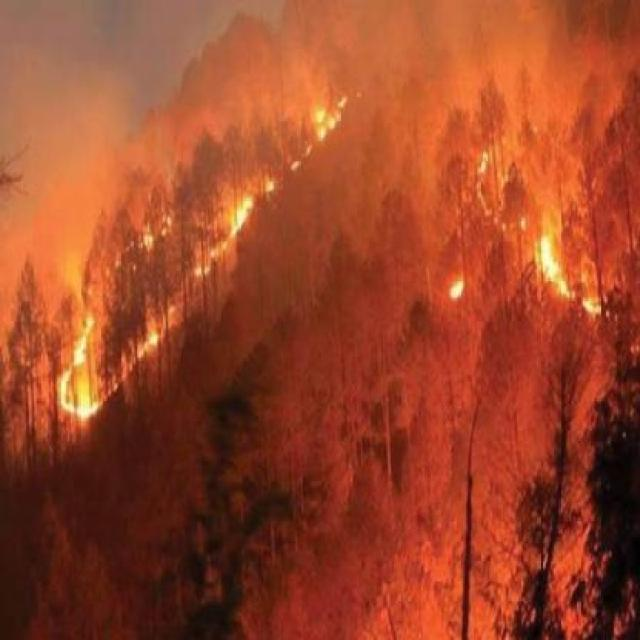Fire: (38, 67, 352, 440), (437, 106, 628, 326)
